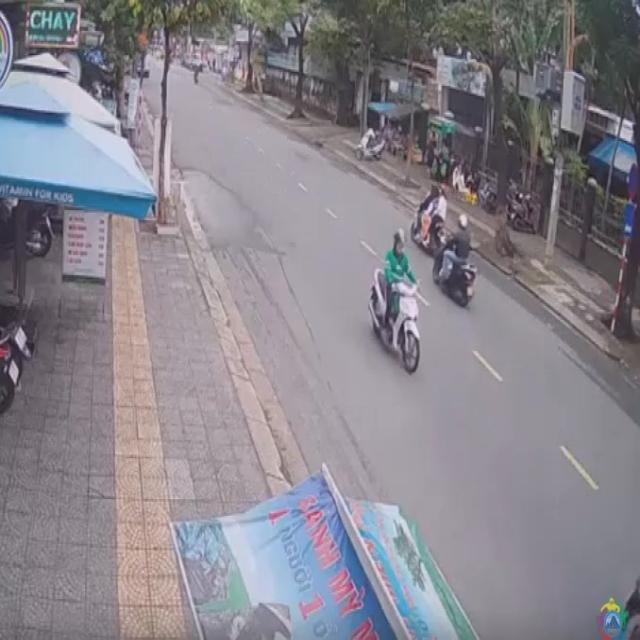motorbike: (367, 233, 423, 374), (433, 215, 474, 311), (407, 186, 448, 254)
